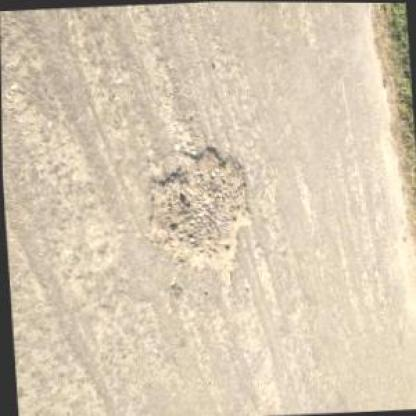pothole: (139, 140, 255, 294)
